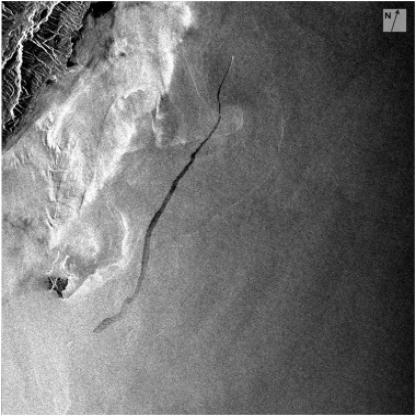oil: (126, 60, 258, 334)
